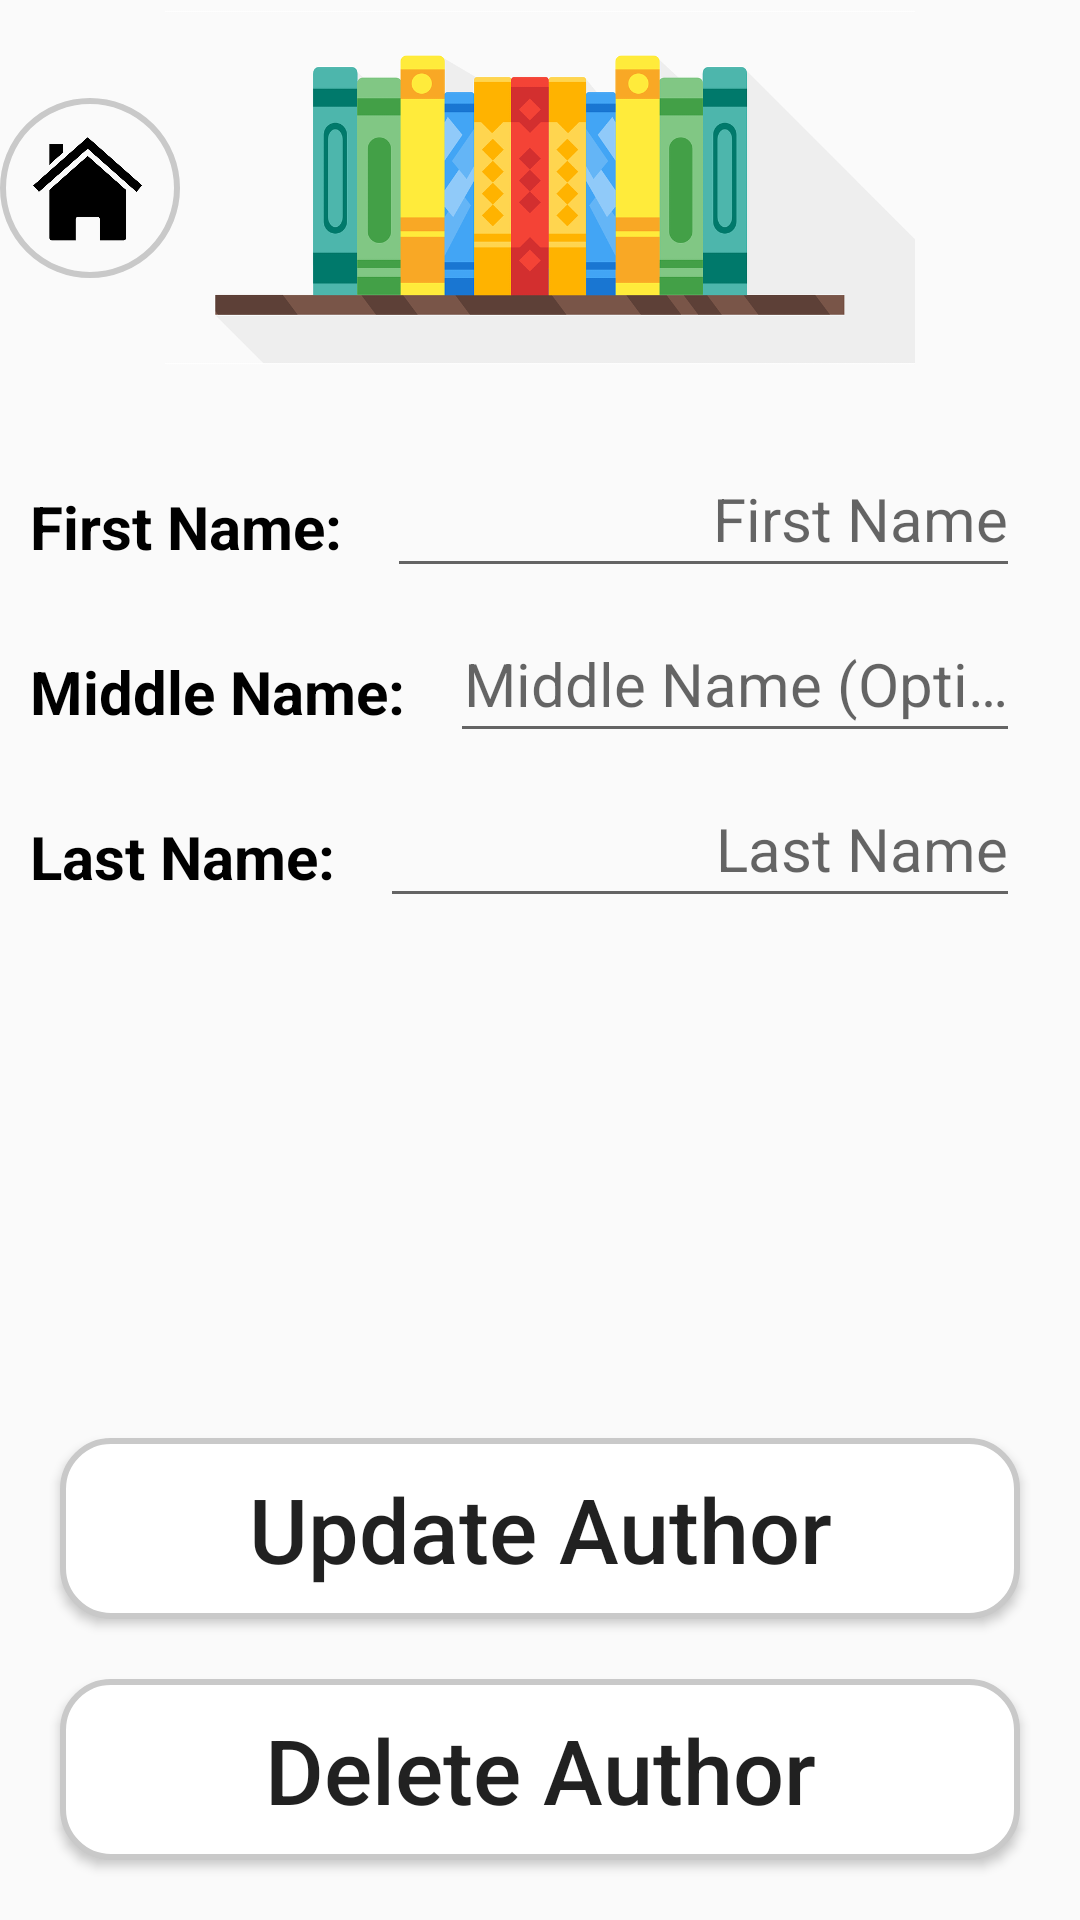

Icons on this 1080px×1920px Android screen, each with its box as {"left": x1, "top": y1, "right": x2, "bottom": y2}:
home: {"left": 0, "top": 98, "right": 180, "bottom": 278}
